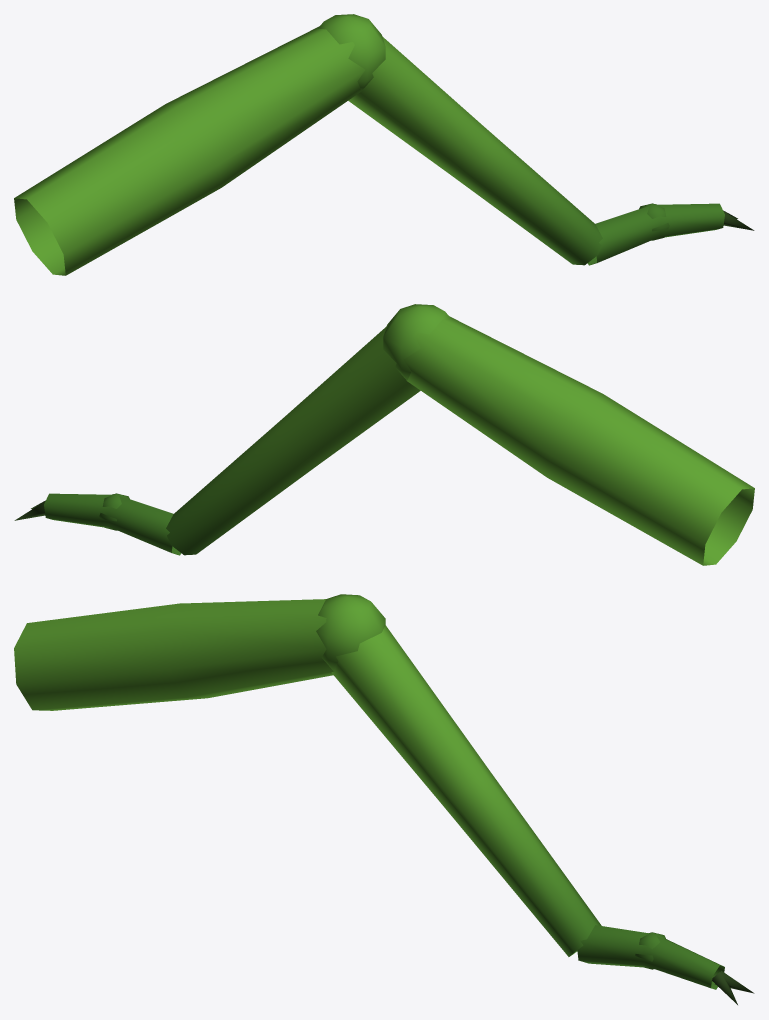
The model's file is Kamemushi_Leg2.fbx.
The picture shows the model from 3 angles, top to bottom: view 1: azimuth 30°, elevation 25°; view 2: azimuth 150°, elevation 25°; view 3: azimuth 330°, elevation 25°; orthographic projection.
Parts seen in each view (by area): view 1: Kamemushi_Leg2; view 2: Kamemushi_Leg2; view 3: Kamemushi_Leg2.
Part boxes in pixels (x1,y1,x2,y2): Kamemushi_Leg2: (14, 14, 754, 275); Kamemushi_Leg2: (14, 304, 754, 565); Kamemushi_Leg2: (14, 594, 754, 1004).
Size of the model in its own units: 0.2106 by 0.086 by 0.0259.
